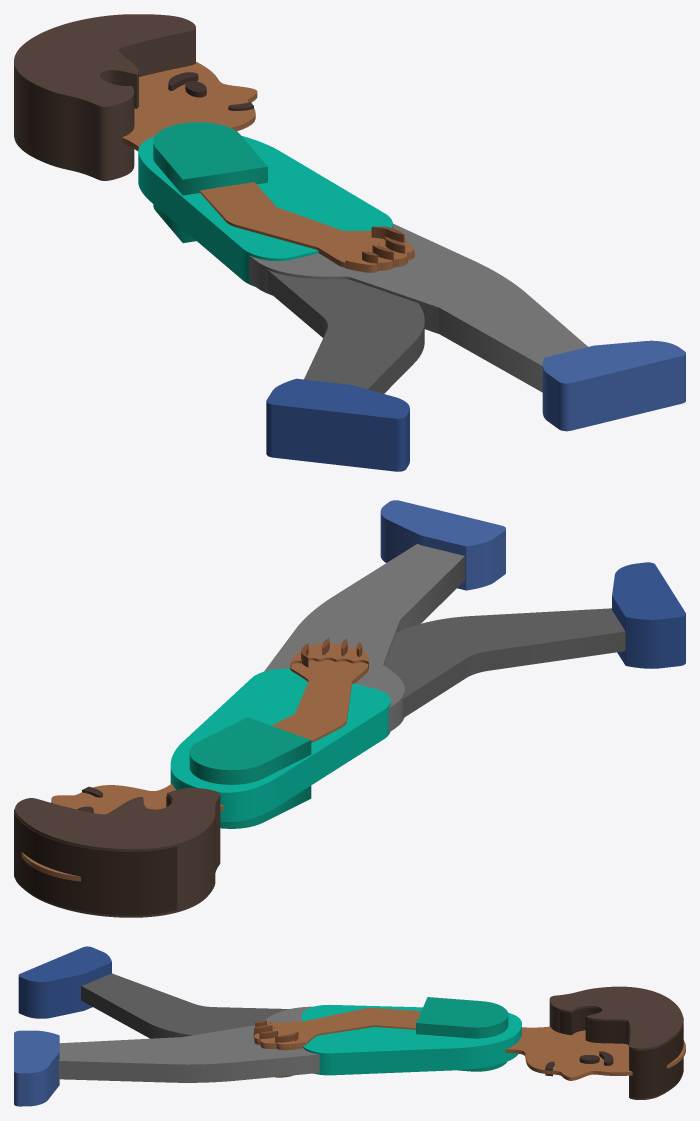
Rendered from emoji_u1f6b6_1f3fe_200d_2642_200d_27a1.glb.
3 views of the same model, one above another, from view 1: azimuth 30°, elevation 25°; view 2: azimuth 150°, elevation 25°; view 3: azimuth 270°, elevation 25° (orthographic). The views are drawn at different scales.
Visible parts, largest first — view 1: emoji_u1f6b6_1f3fe_200d_2642_200d_27a1; view 2: emoji_u1f6b6_1f3fe_200d_2642_200d_27a1; view 3: emoji_u1f6b6_1f3fe_200d_2642_200d_27a1.
Boxes of the visible parts, x1,y1,x2,y2 form: emoji_u1f6b6_1f3fe_200d_2642_200d_27a1: (14,14,685,471); emoji_u1f6b6_1f3fe_200d_2642_200d_27a1: (14,500,685,917); emoji_u1f6b6_1f3fe_200d_2642_200d_27a1: (14,946,685,1106).
Size of the model in its own units: 0.0146 by 0.0028 by 0.0331.
